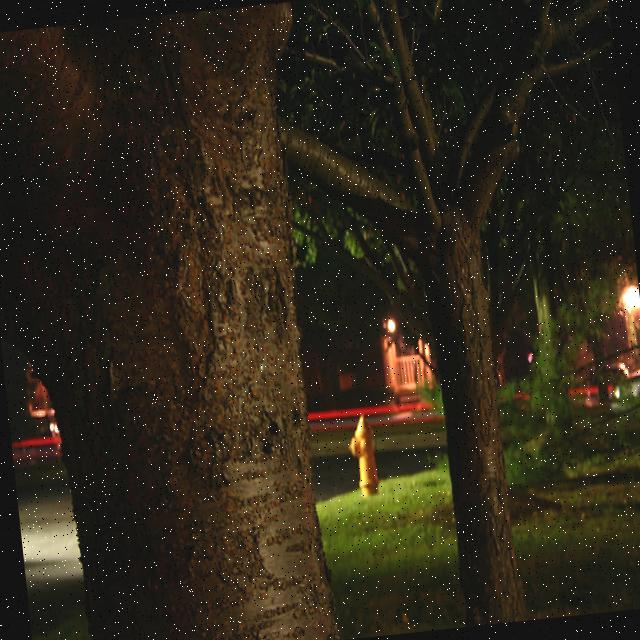fire_hydrant: (344, 414, 380, 496)
